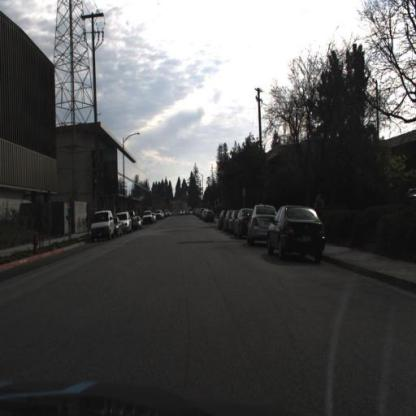car: (267, 203, 329, 265), (247, 205, 279, 249), (246, 204, 278, 247), (89, 210, 114, 246), (234, 206, 256, 240), (93, 210, 115, 241), (119, 209, 134, 237), (204, 208, 218, 229), (113, 215, 124, 241)
